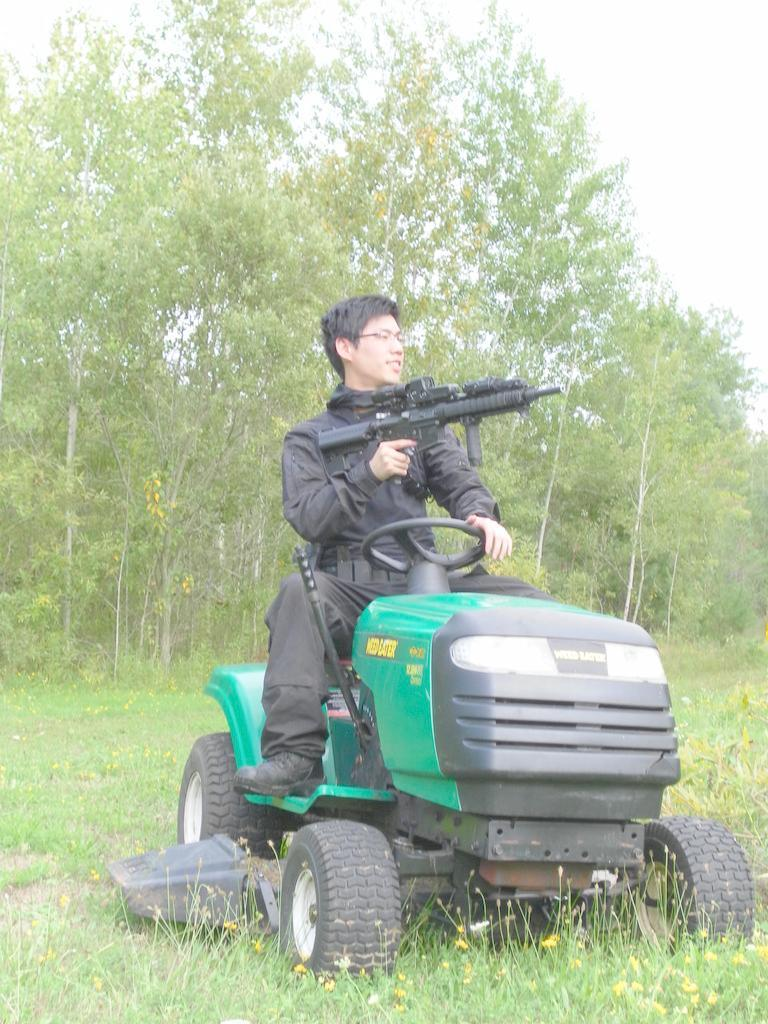gun: (304, 378, 570, 442)
